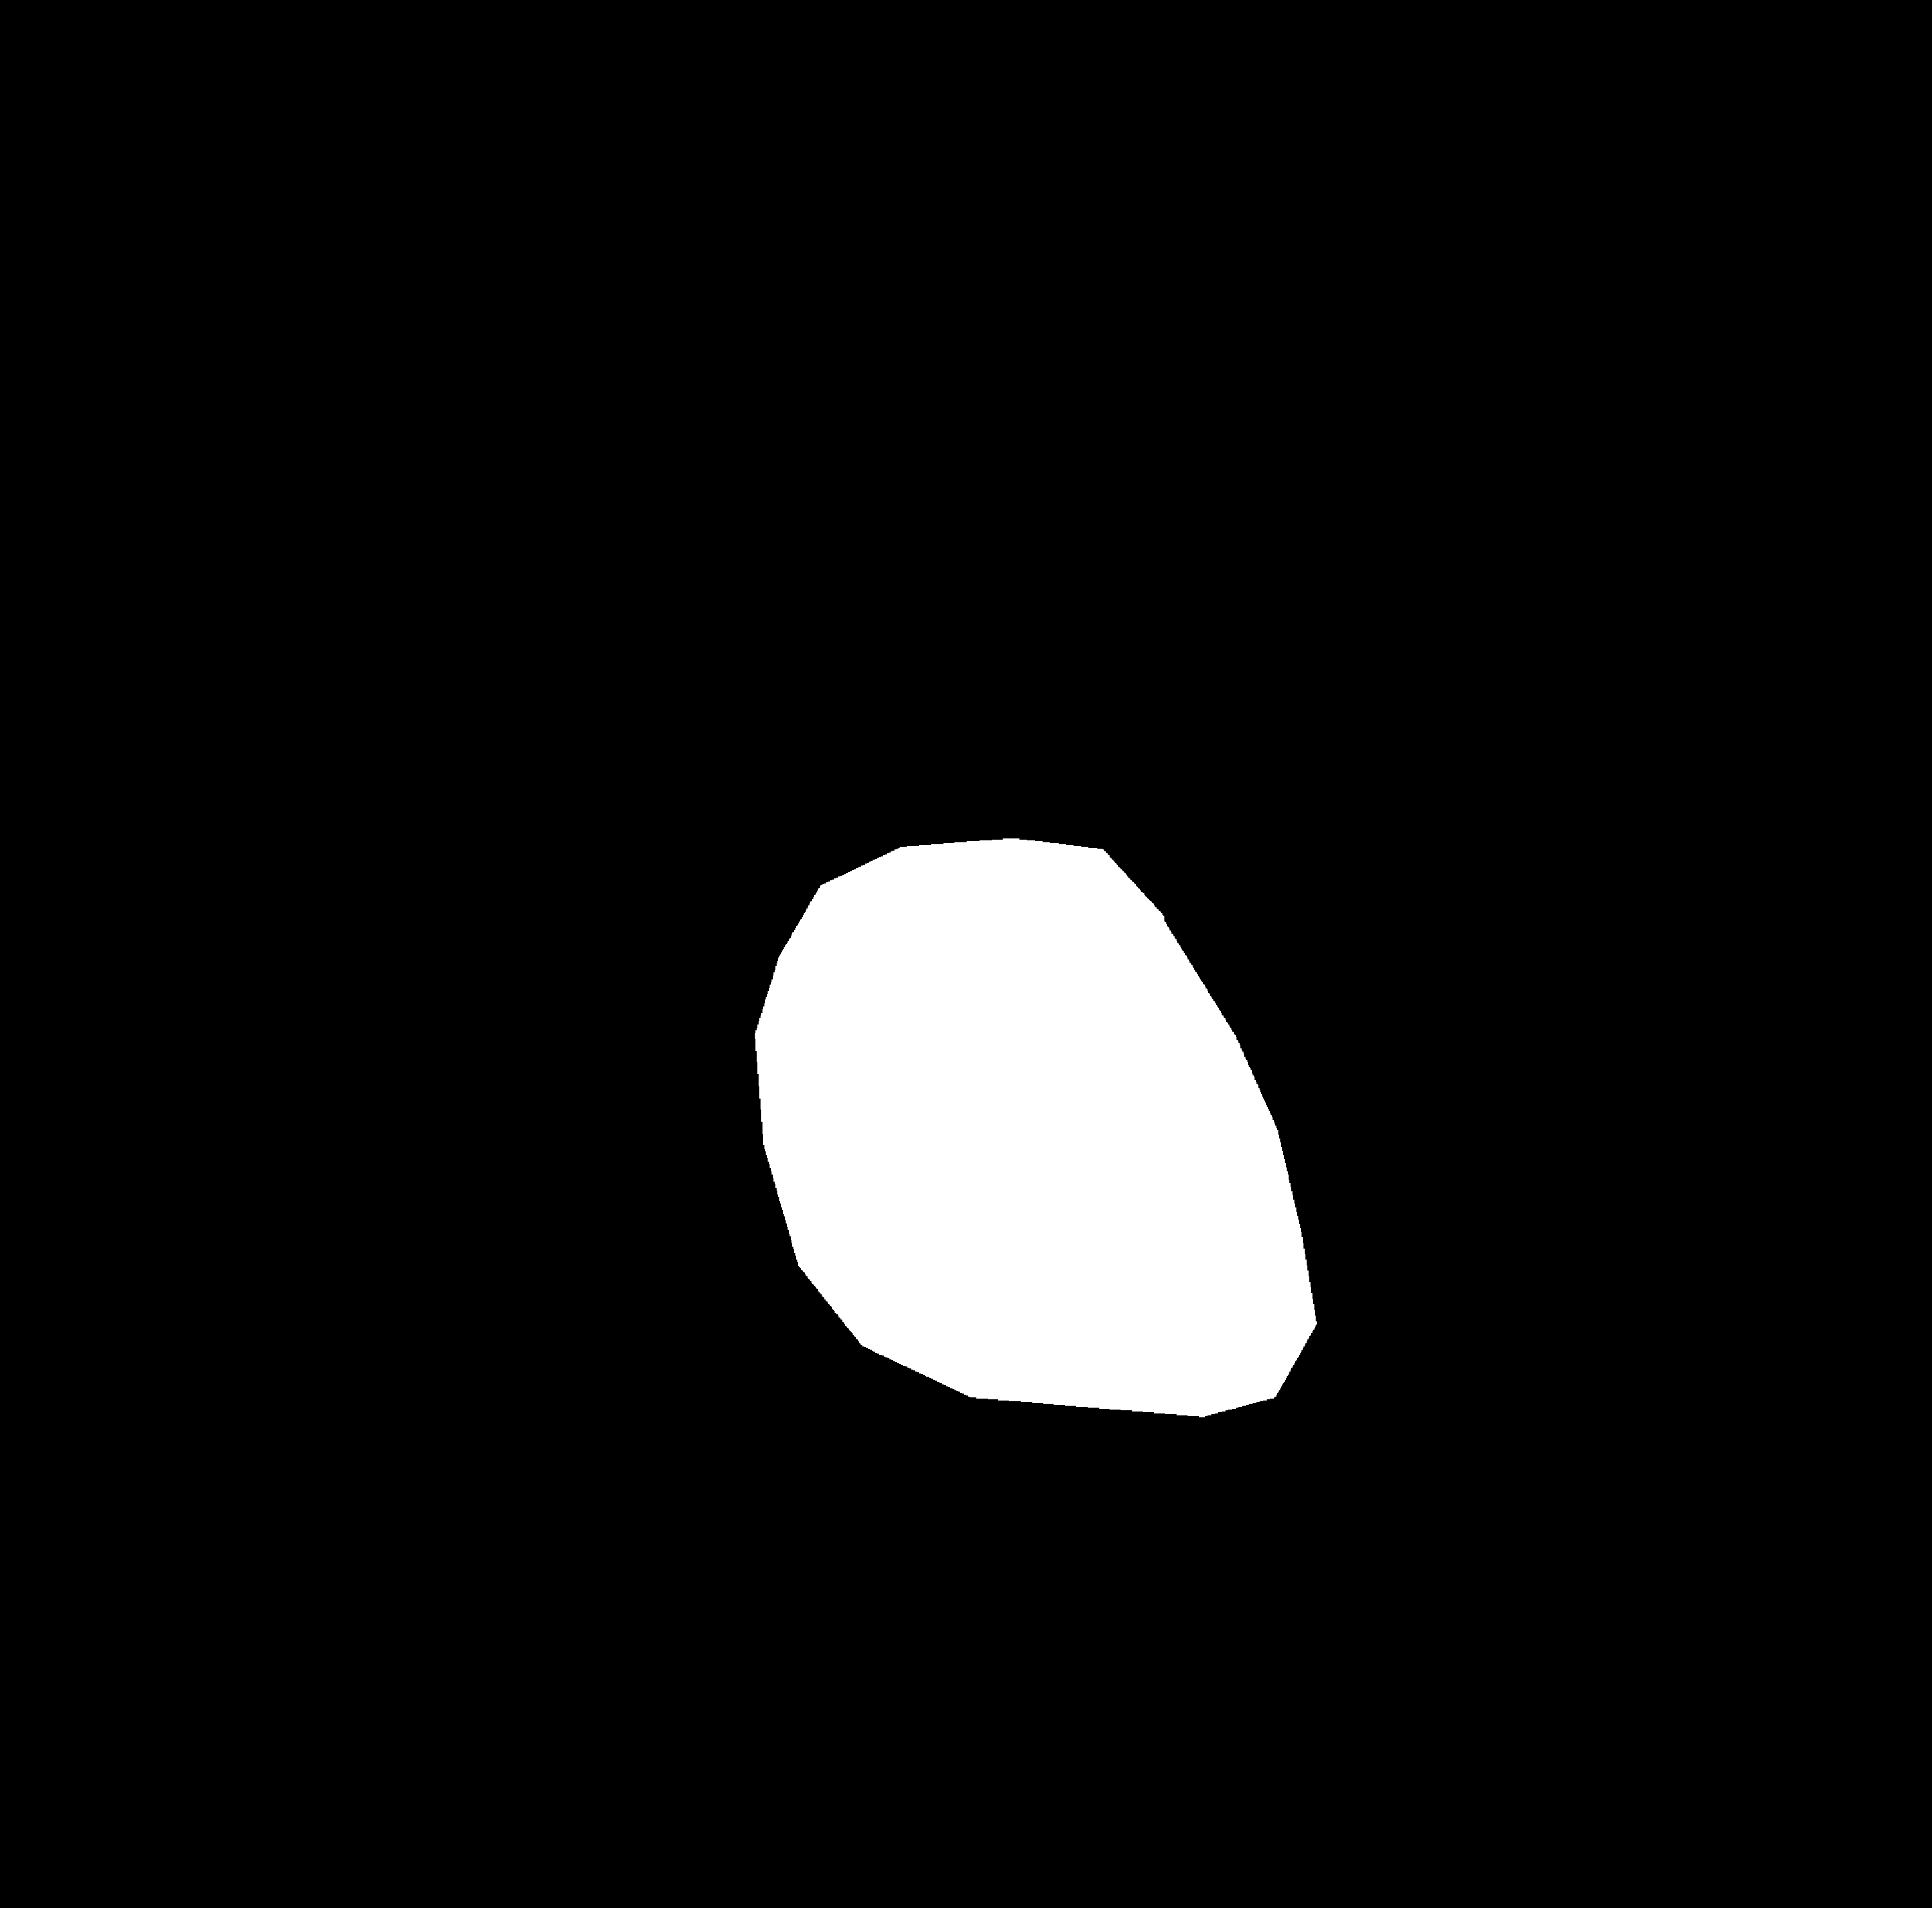heart: (753, 870, 1338, 1426)
left_lung: (302, 199, 915, 1553)
right_lung: (1053, 199, 1590, 1630)
